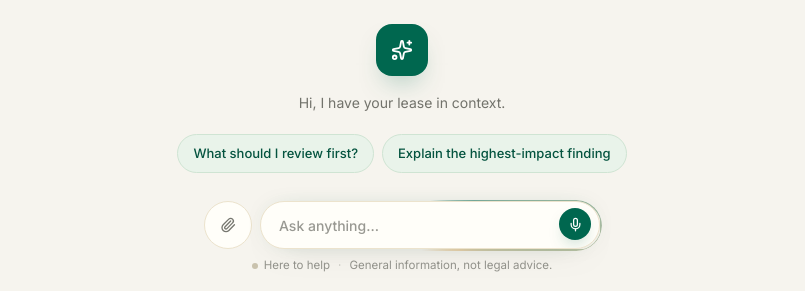
AssistantConsole › hides the suggestions once a conversation is under way
Click the button "What should I review first?".
click(276, 153)  # box [178,134,374,173]
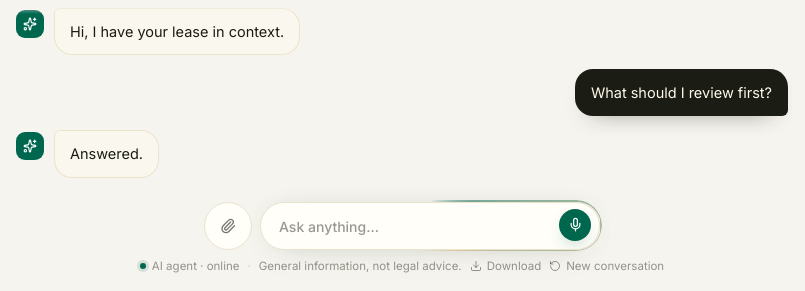
Check: the text "Answered." is shown, box [70,142,143,166]
Check: the button "New conversation" is shown, box [549,258,664,275]
